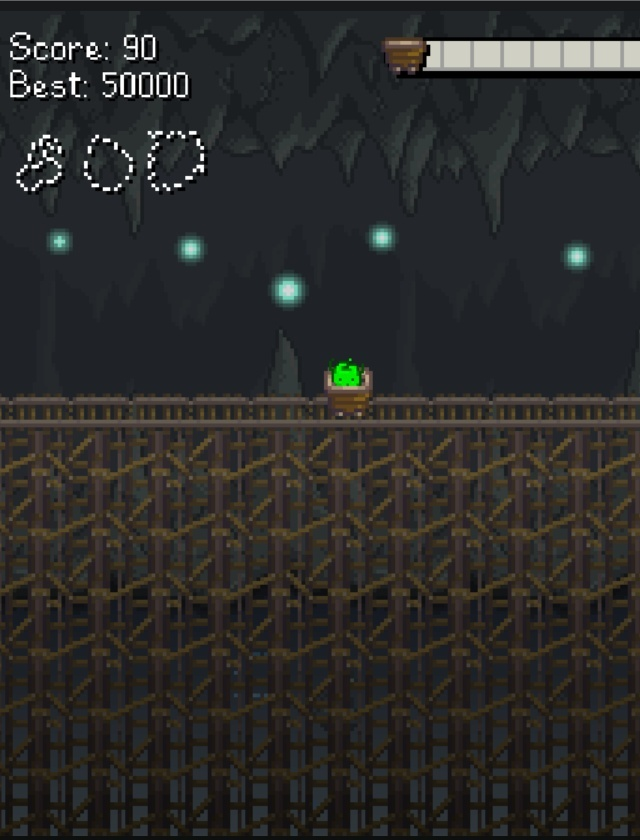minecart: (325, 357, 371, 417)
tracks: (0, 388, 315, 436)
